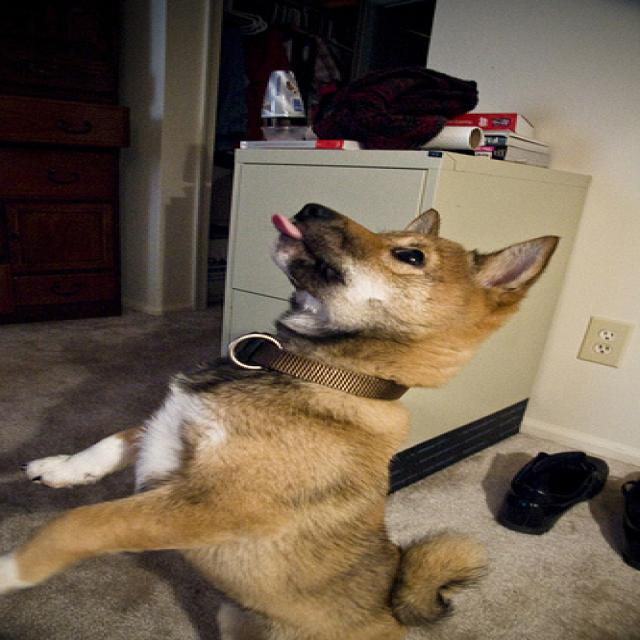dog: (267, 201, 556, 308)
